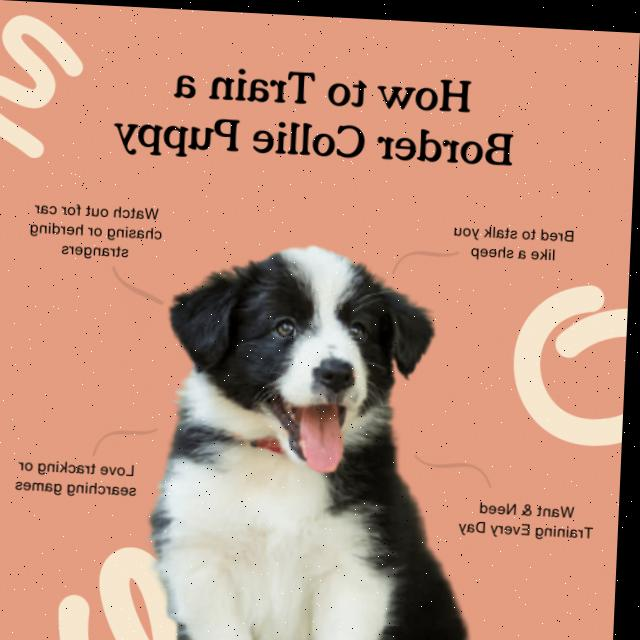BORDER_COLLIE: (107, 231, 526, 640)
